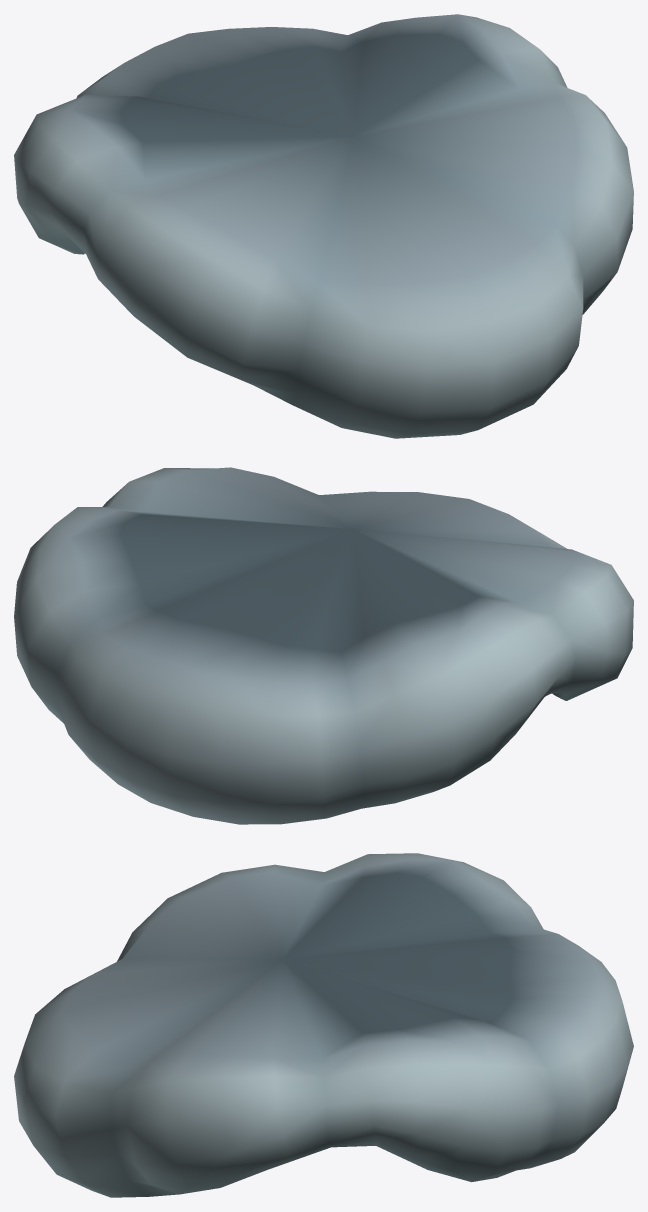
Rendered from Scarf_Mario.fbx.
3 views of the same model, one above another, from view 1: azimuth 30°, elevation 25°; view 2: azimuth 150°, elevation 25°; view 3: azimuth 270°, elevation 25° (orthographic). The views are drawn at different scales.
Parts seen in each view (by area): view 1: mesh-8; view 2: mesh-8; view 3: mesh-8.
Boxes of the visible parts, bbox=[...] form: mesh-8: bbox=[14, 14, 633, 438]; mesh-8: bbox=[14, 467, 633, 824]; mesh-8: bbox=[14, 853, 633, 1197].
Size of the model in its own units: 480 by 208 by 532.
